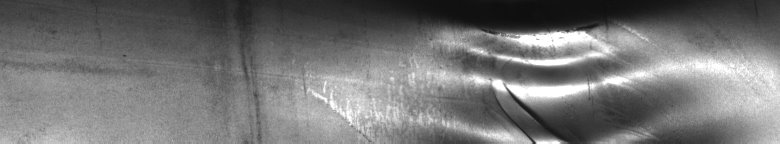ke: (428, 16, 648, 136)
